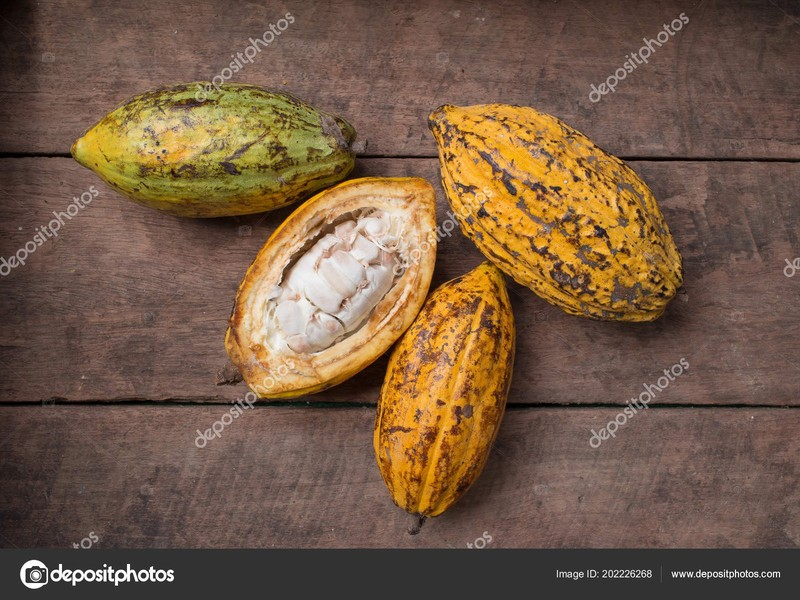Cacaopod: (429, 103, 691, 327), (69, 80, 369, 223), (375, 256, 501, 537)
